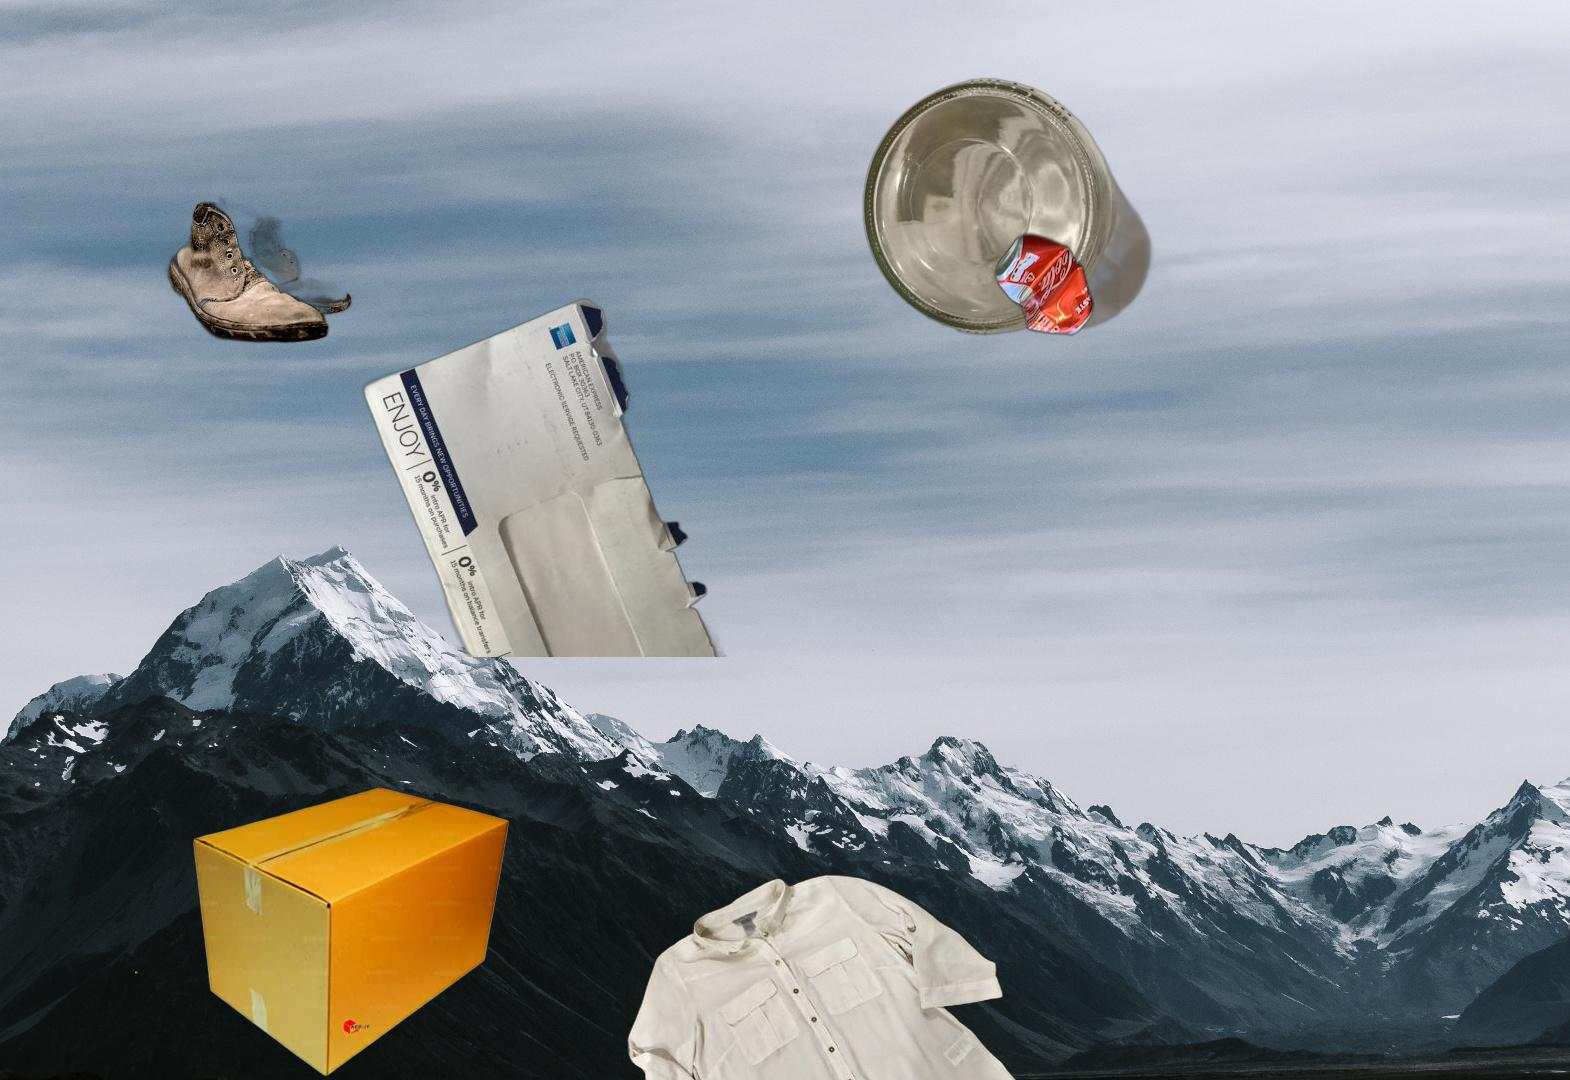clothes: (623, 871, 1022, 1080), (1563, 872, 1570, 1080)
glass: (859, 75, 1162, 339)
metal-cans: (991, 228, 1098, 342)
paper: (339, 297, 730, 658)
shoes: (104, 175, 357, 346)
trashbox-cardboard: (135, 897, 675, 1080), (191, 785, 511, 1076)
